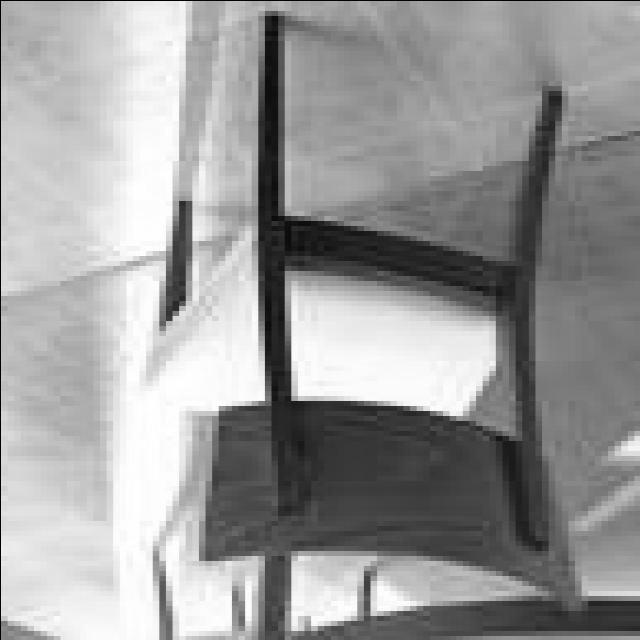chair: (140, 12, 586, 612)
